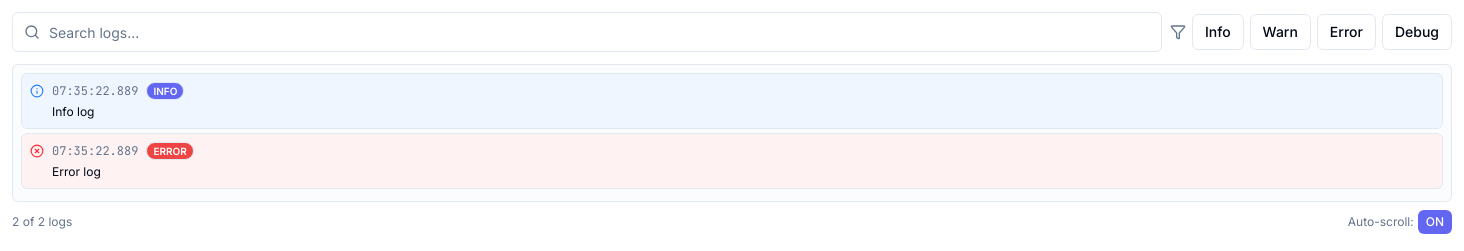
Scenario: LogViewer › should clear all filters
This screenshot has width=1464, height=251.
// Apply search
Type "Error" into the field with placeholder "Search logs..." at (587, 32), box [12, 12, 1162, 52]
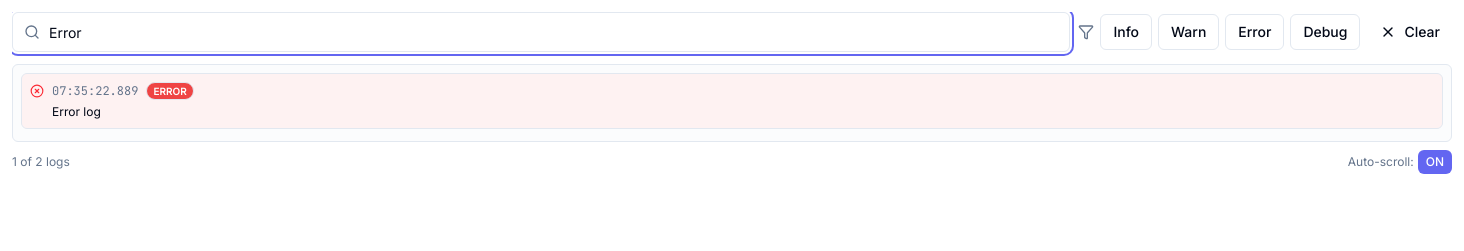
// Apply level filter
Click the button "error" at (1255, 32), box [1225, 14, 1284, 50]
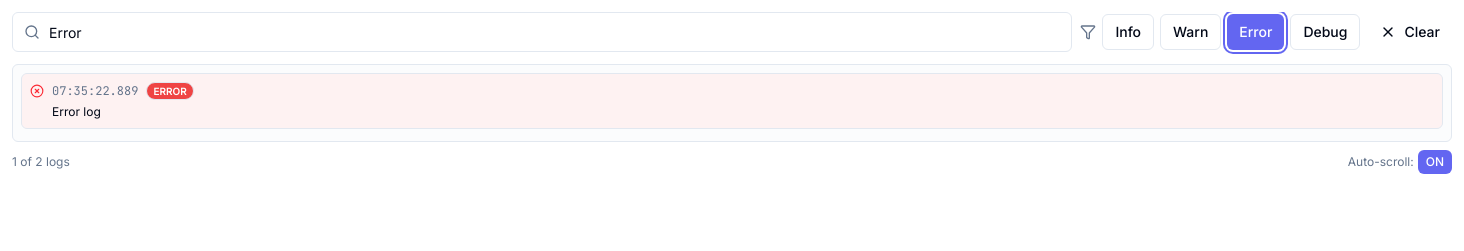
// Clear all filters
Click the button "Clear" at (1410, 32), box [1368, 14, 1452, 50]
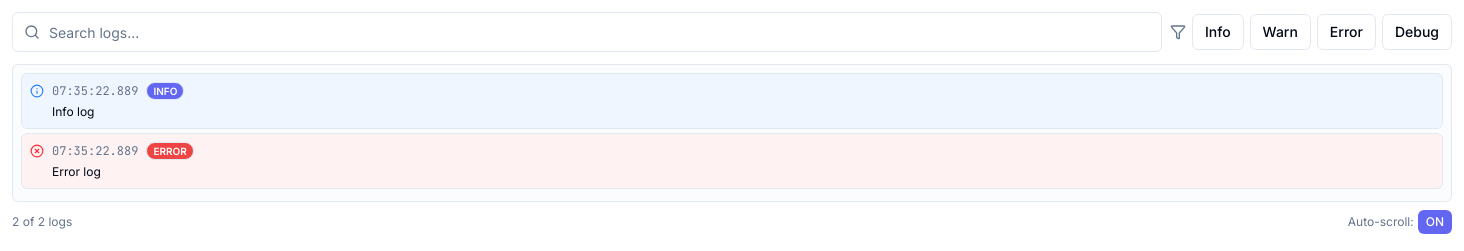
Check: the text "Error log" is shown, box [52, 164, 101, 179]
Check: the text "Info log" is shown, box [52, 104, 94, 119]
Check: the text "2 of 2 logs" is shown, box [12, 214, 72, 230]
